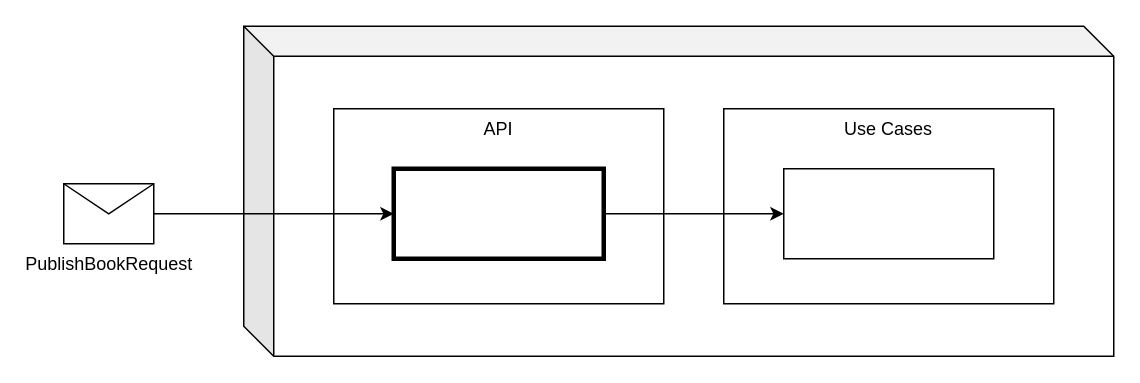
The diagram is 1140 pixels wide and 383 high, and some of its shapes have lost their labels. The shapes that lost their labels are listed below. From the top down, each one's centre as x and y in pixels, then its label:
[498,213]: POST / books /{id} /publish
[888,213]: PublishBook UseCase
